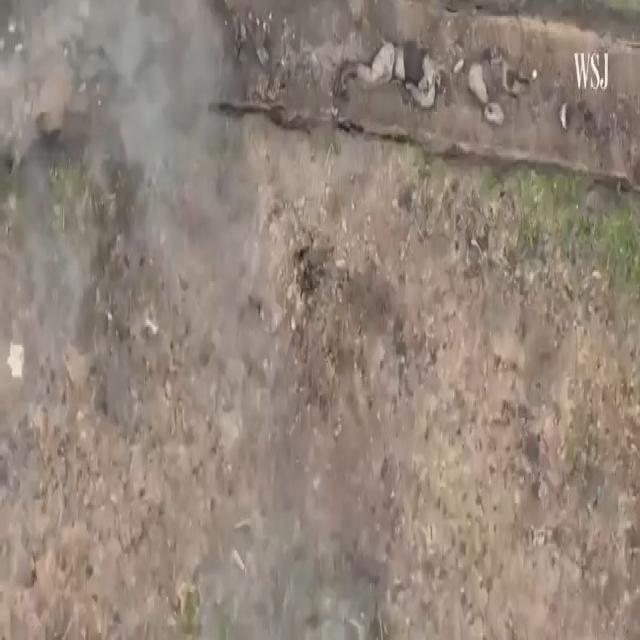Civilian: (341, 42, 439, 107)
